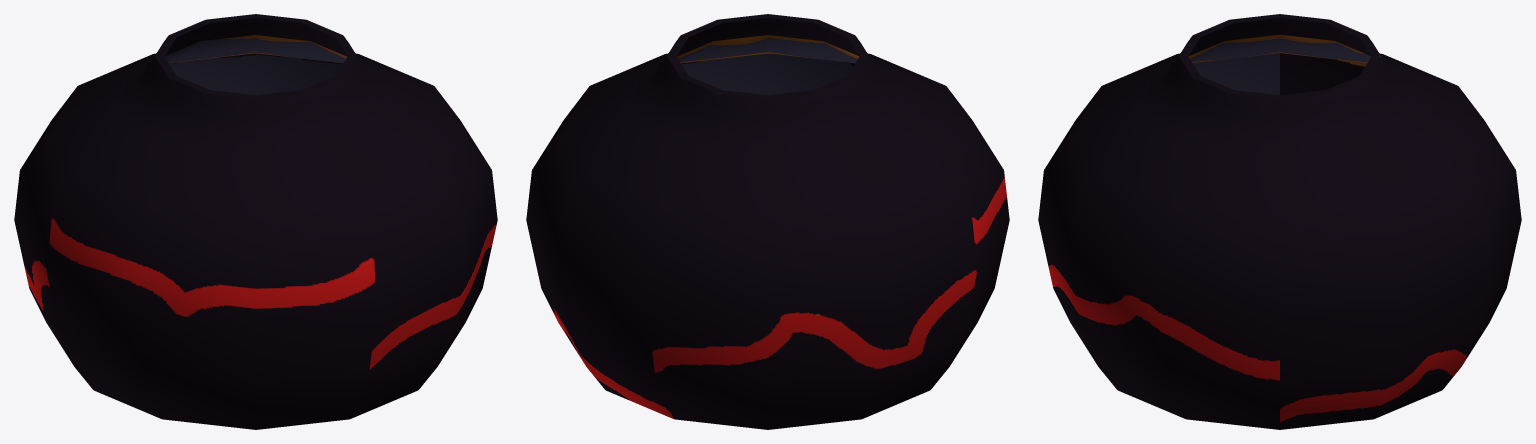
File: PtwoKumbo.fbx
The picture shows the model from 3 angles, left to right: view 1: azimuth 30°, elevation 25°; view 2: azimuth 150°, elevation 25°; view 3: azimuth 270°, elevation 25°; orthographic projection.
Visible parts, largest first — view 1: Cylinder; view 2: Cylinder; view 3: Cylinder.
Part boxes in pixels (x1=…): Cylinder: x1=14, y1=14, x2=497, y2=429; Cylinder: x1=526, y1=14, x2=1009, y2=429; Cylinder: x1=1038, y1=14, x2=1521, y2=429.
Bounding box in the file's own units: 225 × 151 × 225.
